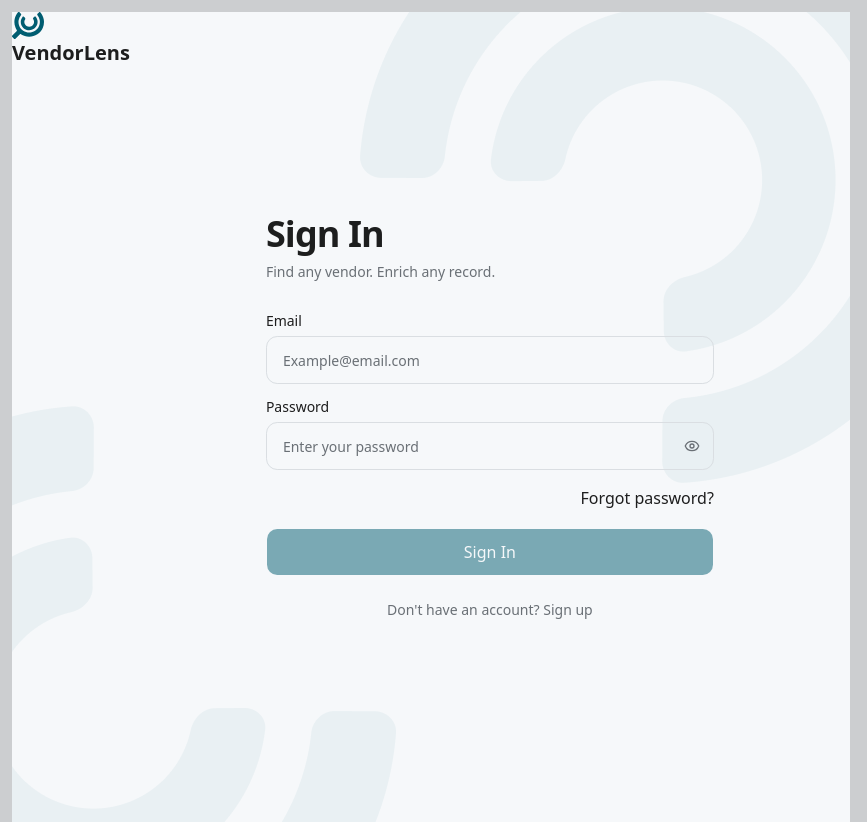
LoginForm › shows Signing In... while loading
The image size is (867, 822).
Type "user@example.com" into the field labelled "Email" at [490, 360], box [266, 336, 714, 384]
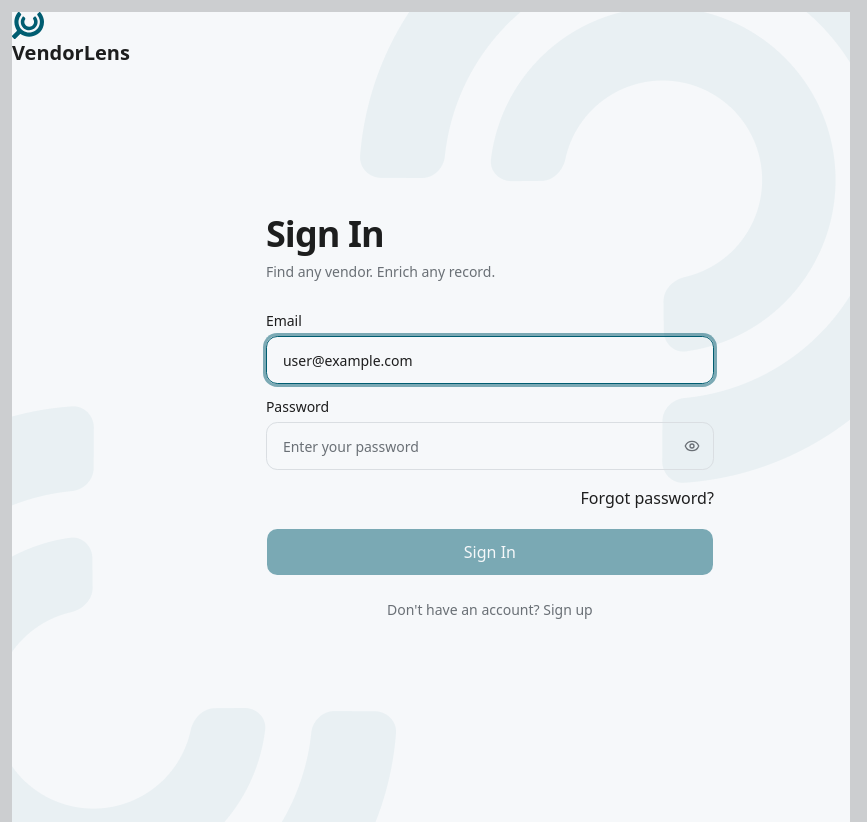
Type "password123" into the password field labelled "Password" at [490, 446], box [266, 422, 714, 470]
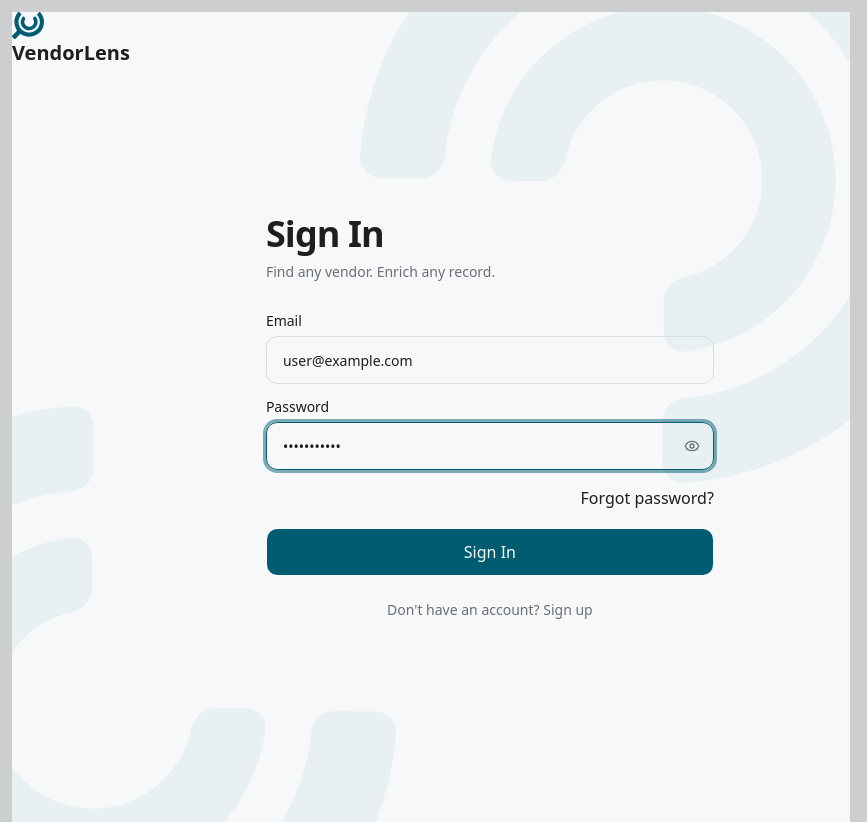
Click the button "Sign In" at [490, 552], box [266, 528, 714, 576]
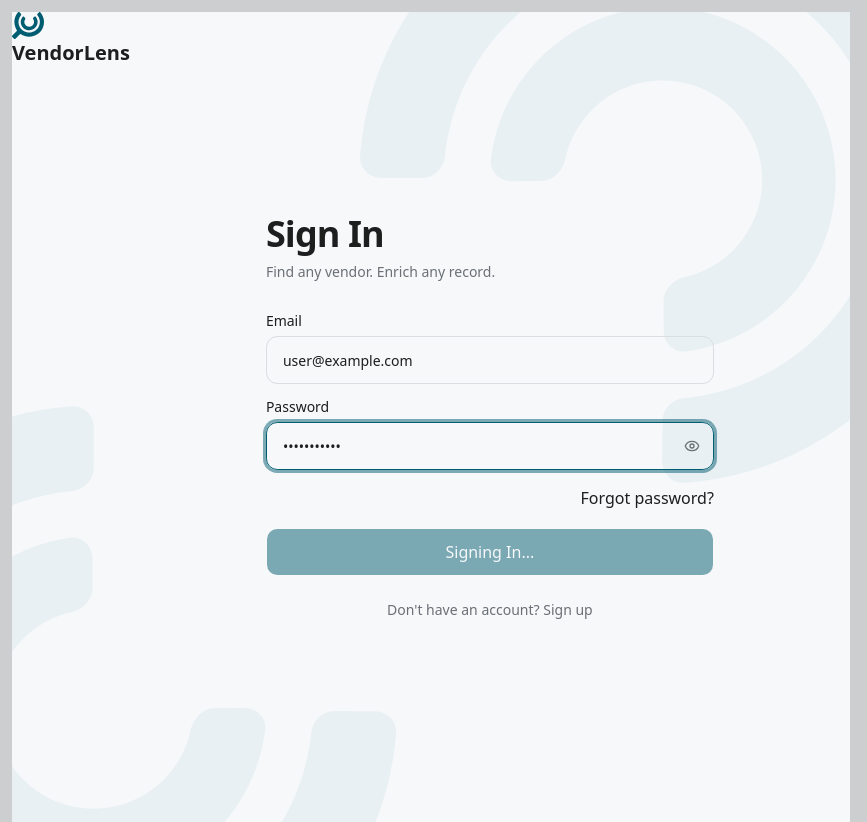
Expected: the button "Signing In..." is shown, [266, 528, 714, 576]
